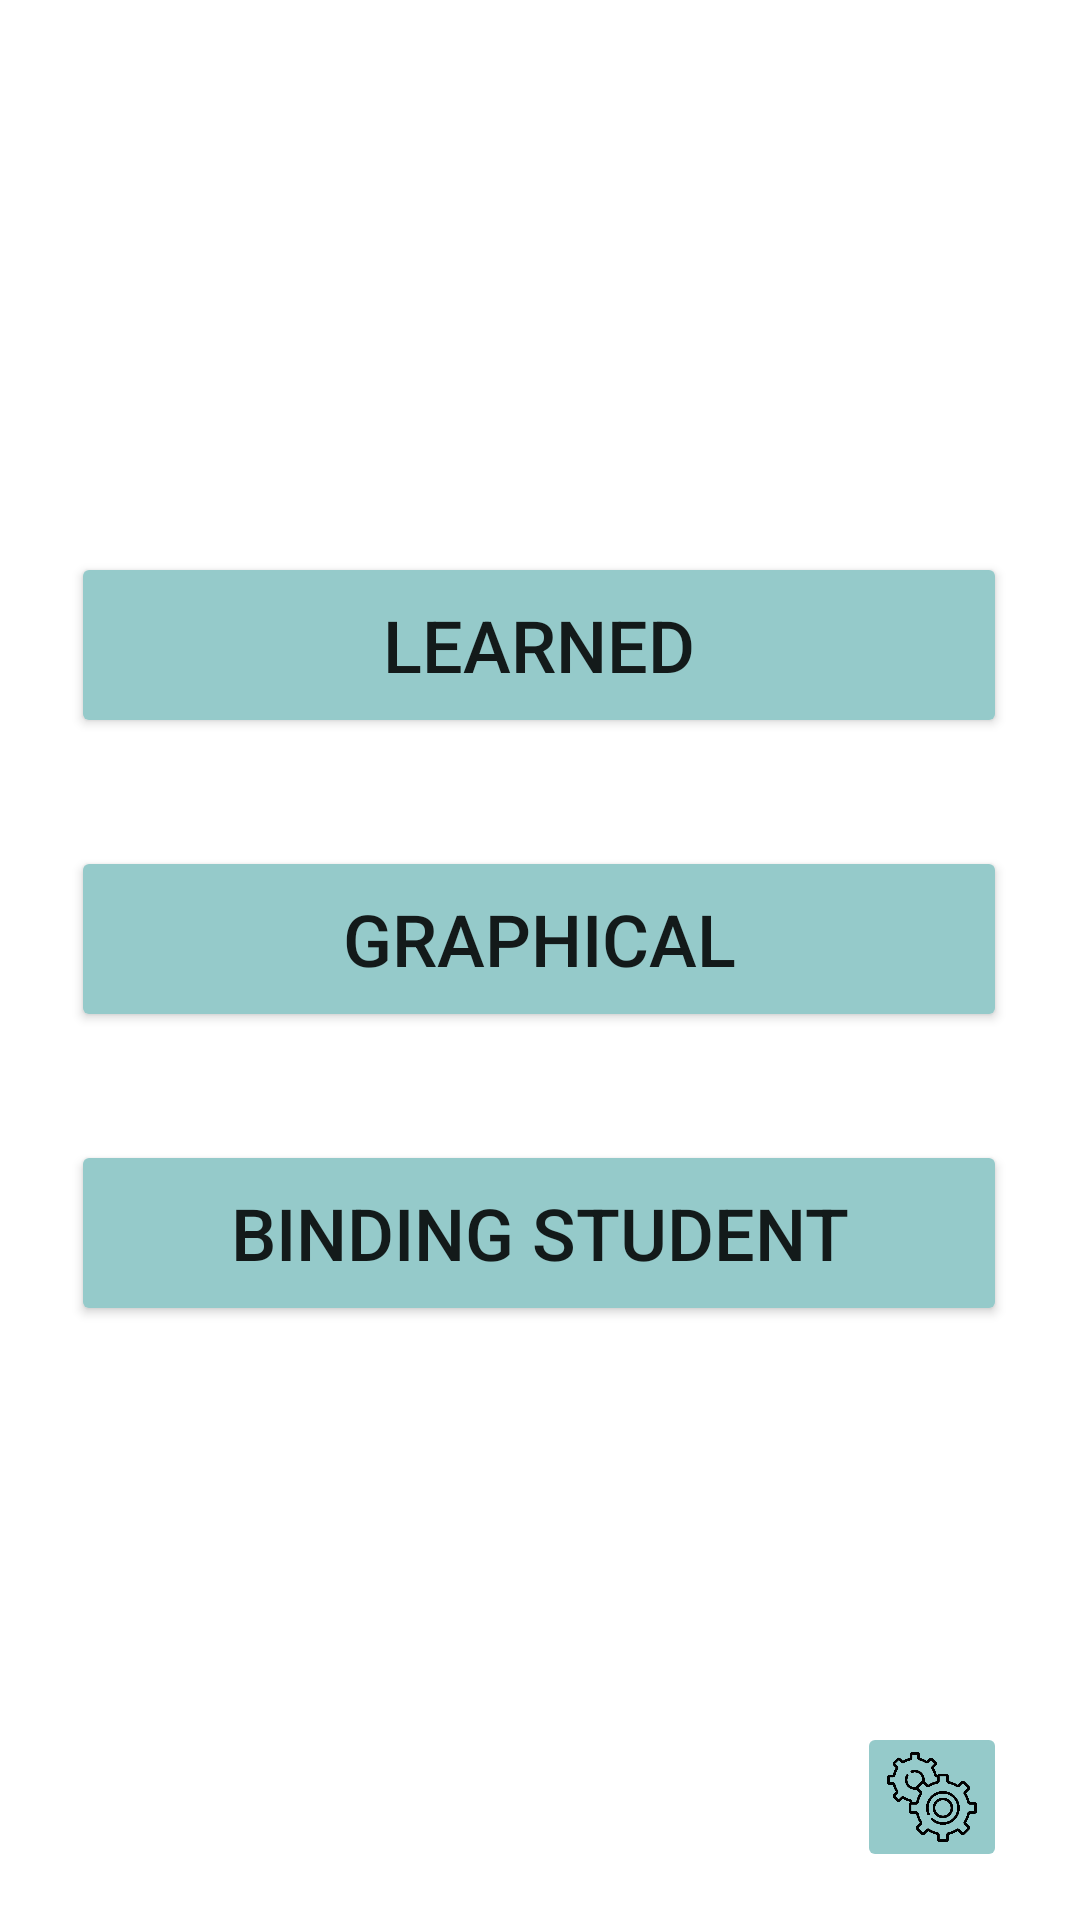

Locate icon controls on the screen. Image size 1080px x 1920px, boxes as (x1, y1, x2, y2).
system: (869, 1740, 995, 1854)
